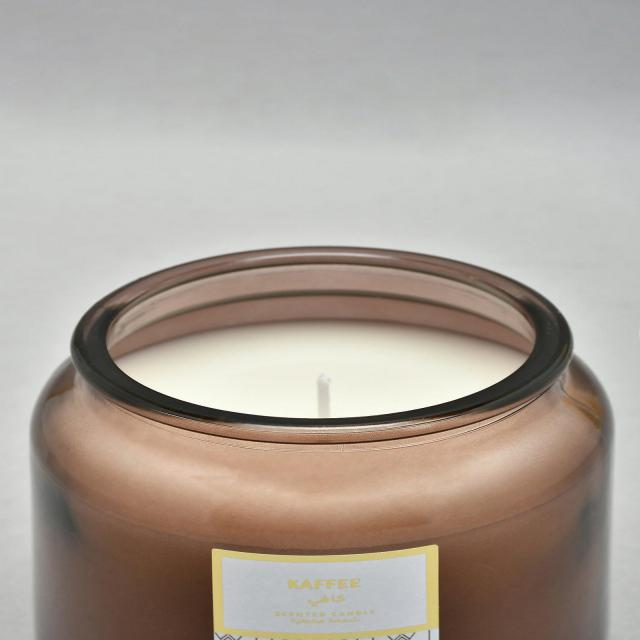non-organic waste: (21, 236, 622, 640)
